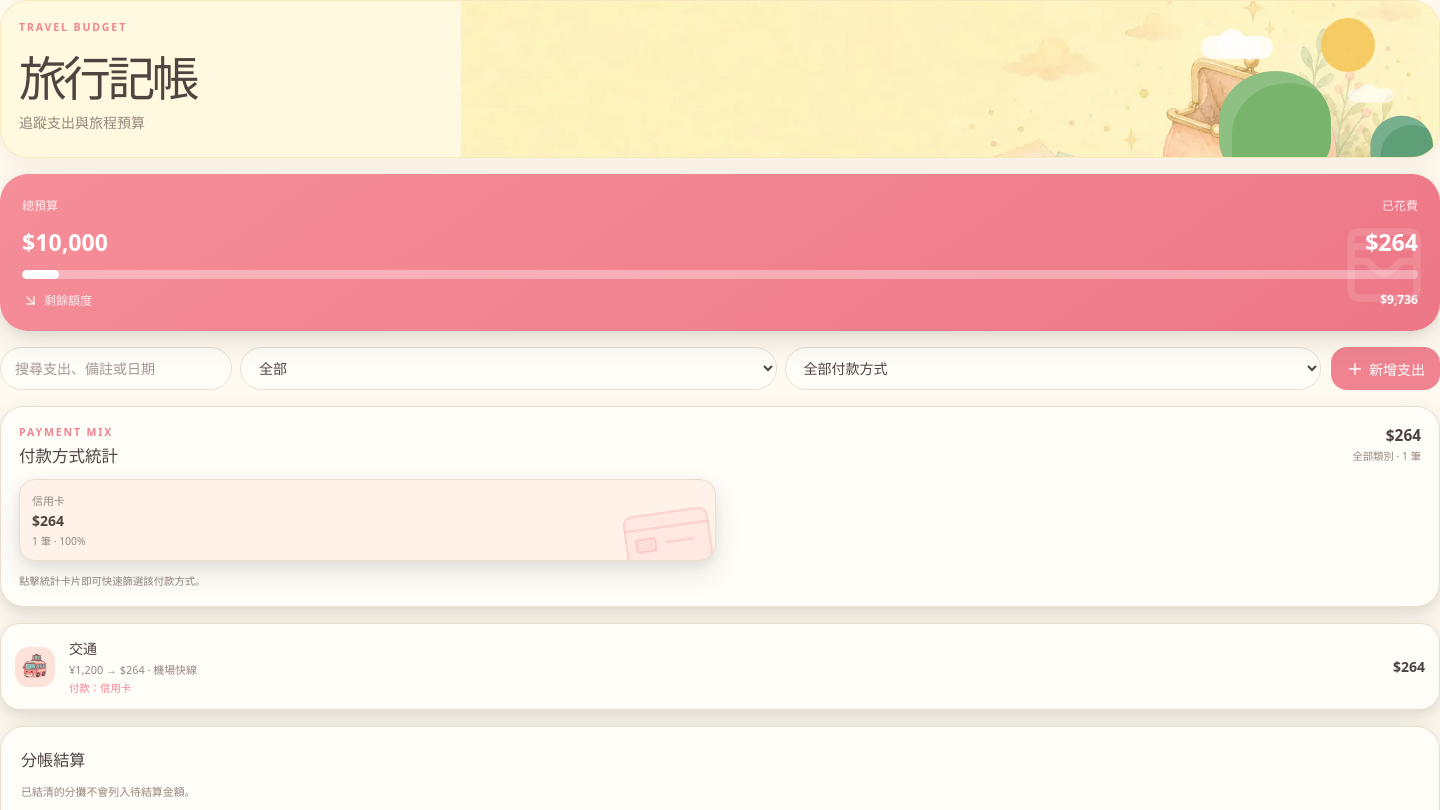
Test case: ExpensePage › opens an existing expense in the edit form when its card is clicked
The width and height of the screenshot is (1440, 810).
Expected: the picture named "交通類別圖示" is shown, [15, 646, 55, 686]
Click the button with aria-label "編輯交通支出".
click(35, 666)  # box [0, 623, 1439, 710]
(page scrolled)
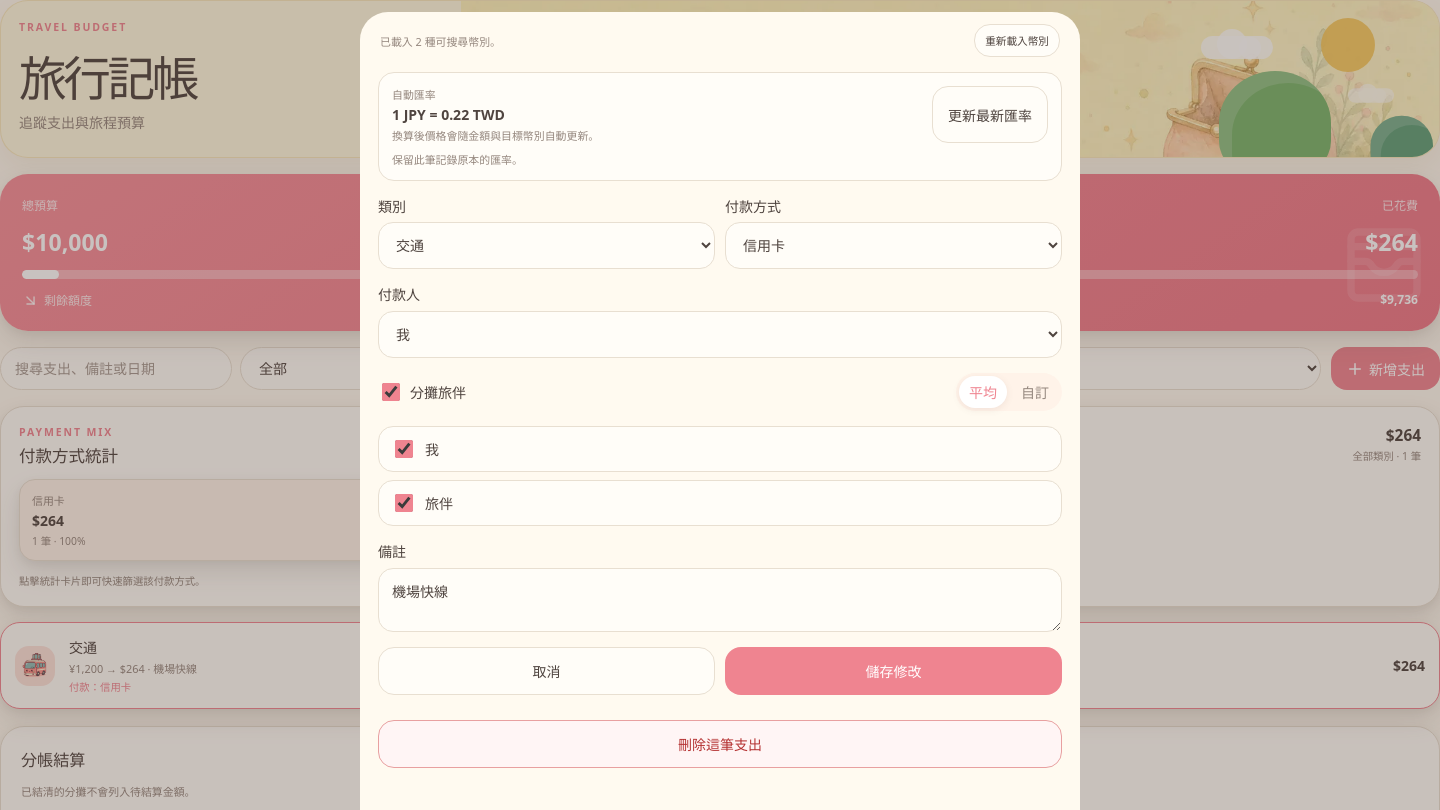
Expected: the text box showing "機場快線" is shown, [378, 568, 1062, 632]
Expected: the button "儲存修改" is shown, [725, 647, 1062, 695]
Expected: the button "刪除這筆支出" is shown, [378, 720, 1062, 768]
